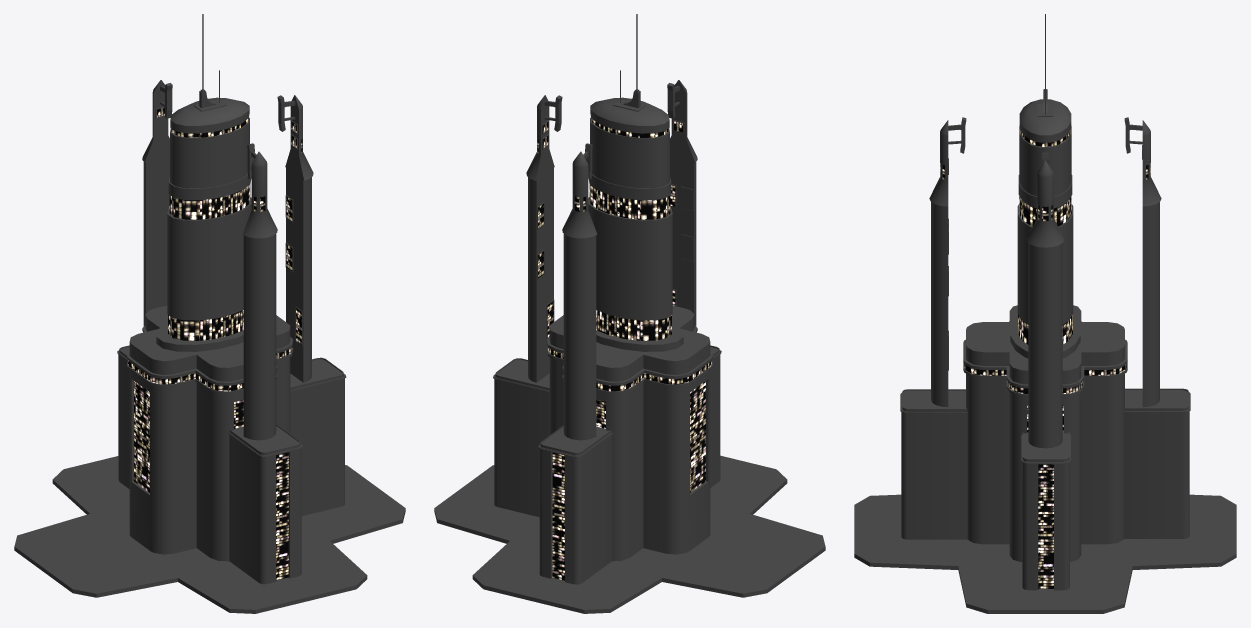
File: FUT0210058.fbx
3 renders of one model, left to right at view 1: azimuth 30°, elevation 25°; view 2: azimuth 150°, elevation 25°; view 3: azimuth 270°, elevation 25°, orthographic.
Visible parts, largest first — view 1: smFUT0210058; view 2: smFUT0210058; view 3: smFUT0210058.
Part boxes in pixels (x1,y1,x2,y2): smFUT0210058: [14, 14, 405, 613]; smFUT0210058: [434, 14, 825, 613]; smFUT0210058: [854, 14, 1236, 613].
Size of the model in its own units: 2443 by 3638 by 2443.
